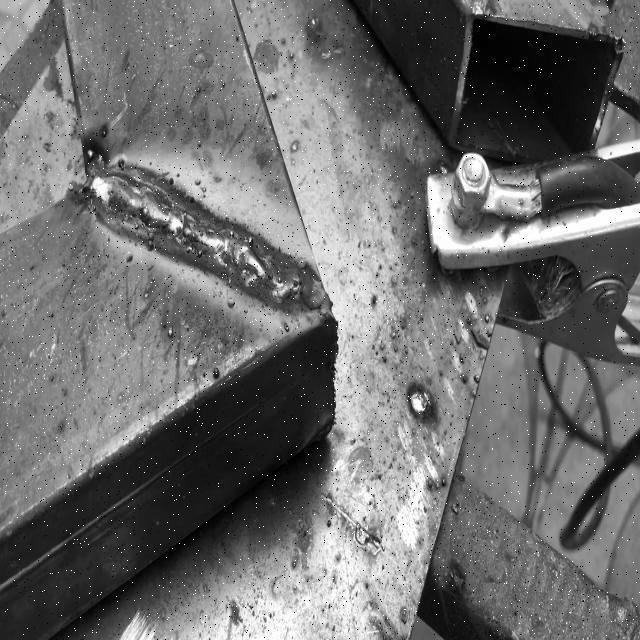Bad Welding: (82, 151, 325, 309)
